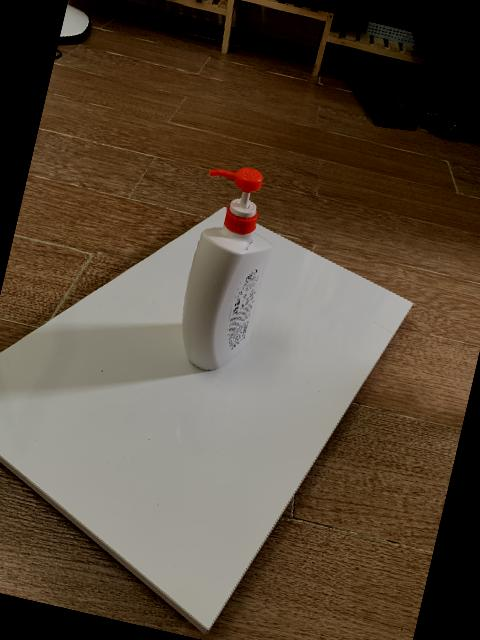life-buoy: (181, 167, 272, 370)
